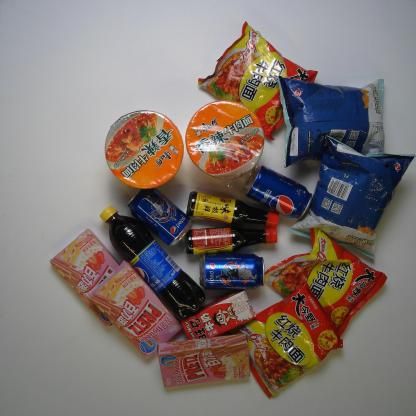Dessert: (87, 258, 185, 361), (44, 225, 136, 330), (155, 330, 255, 391)
Drink: (98, 204, 207, 323), (240, 162, 315, 222), (125, 186, 194, 249), (195, 249, 267, 293)
Instant Noodles: (256, 226, 390, 346), (194, 19, 322, 144), (224, 280, 346, 404), (102, 107, 185, 191), (183, 97, 266, 181)
Milk: (177, 287, 259, 348)
Puffed Food: (285, 132, 416, 263), (272, 70, 388, 169)
Seasoner: (184, 187, 282, 229), (183, 224, 279, 257)
